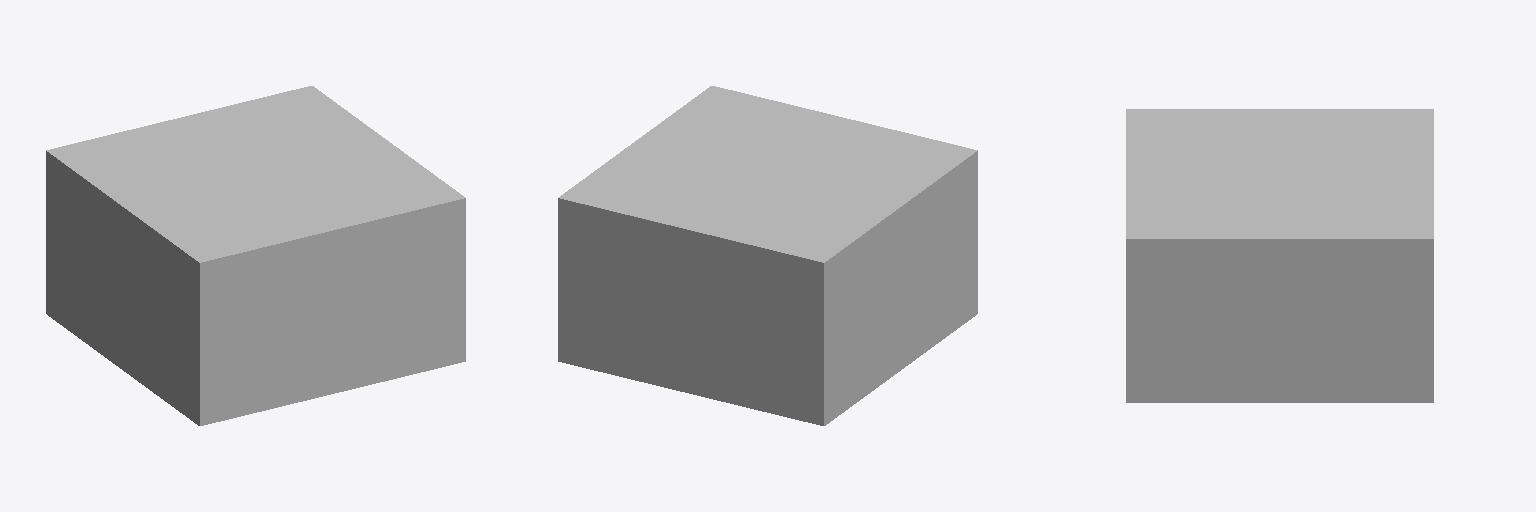
File: room.obj
3 renders of one model, left to right at view 1: azimuth 30°, elevation 25°; view 2: azimuth 150°, elevation 25°; view 3: azimuth 270°, elevation 25°, orthographic.
Visible parts, largest first — view 1: Cube; view 2: Cube; view 3: Cube.
Boxes of the visible parts, box(x1,y1,x2,y2) form: Cube: box(46, 86, 465, 425); Cube: box(558, 86, 977, 425); Cube: box(1126, 109, 1433, 402).
Bounding box in the file's own units: 13.73 × 8.06 × 13.73.